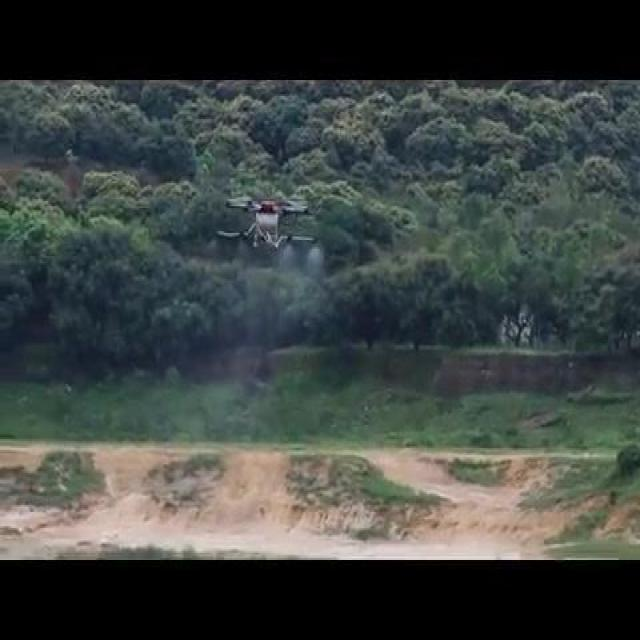drone: (214, 194, 318, 254)
